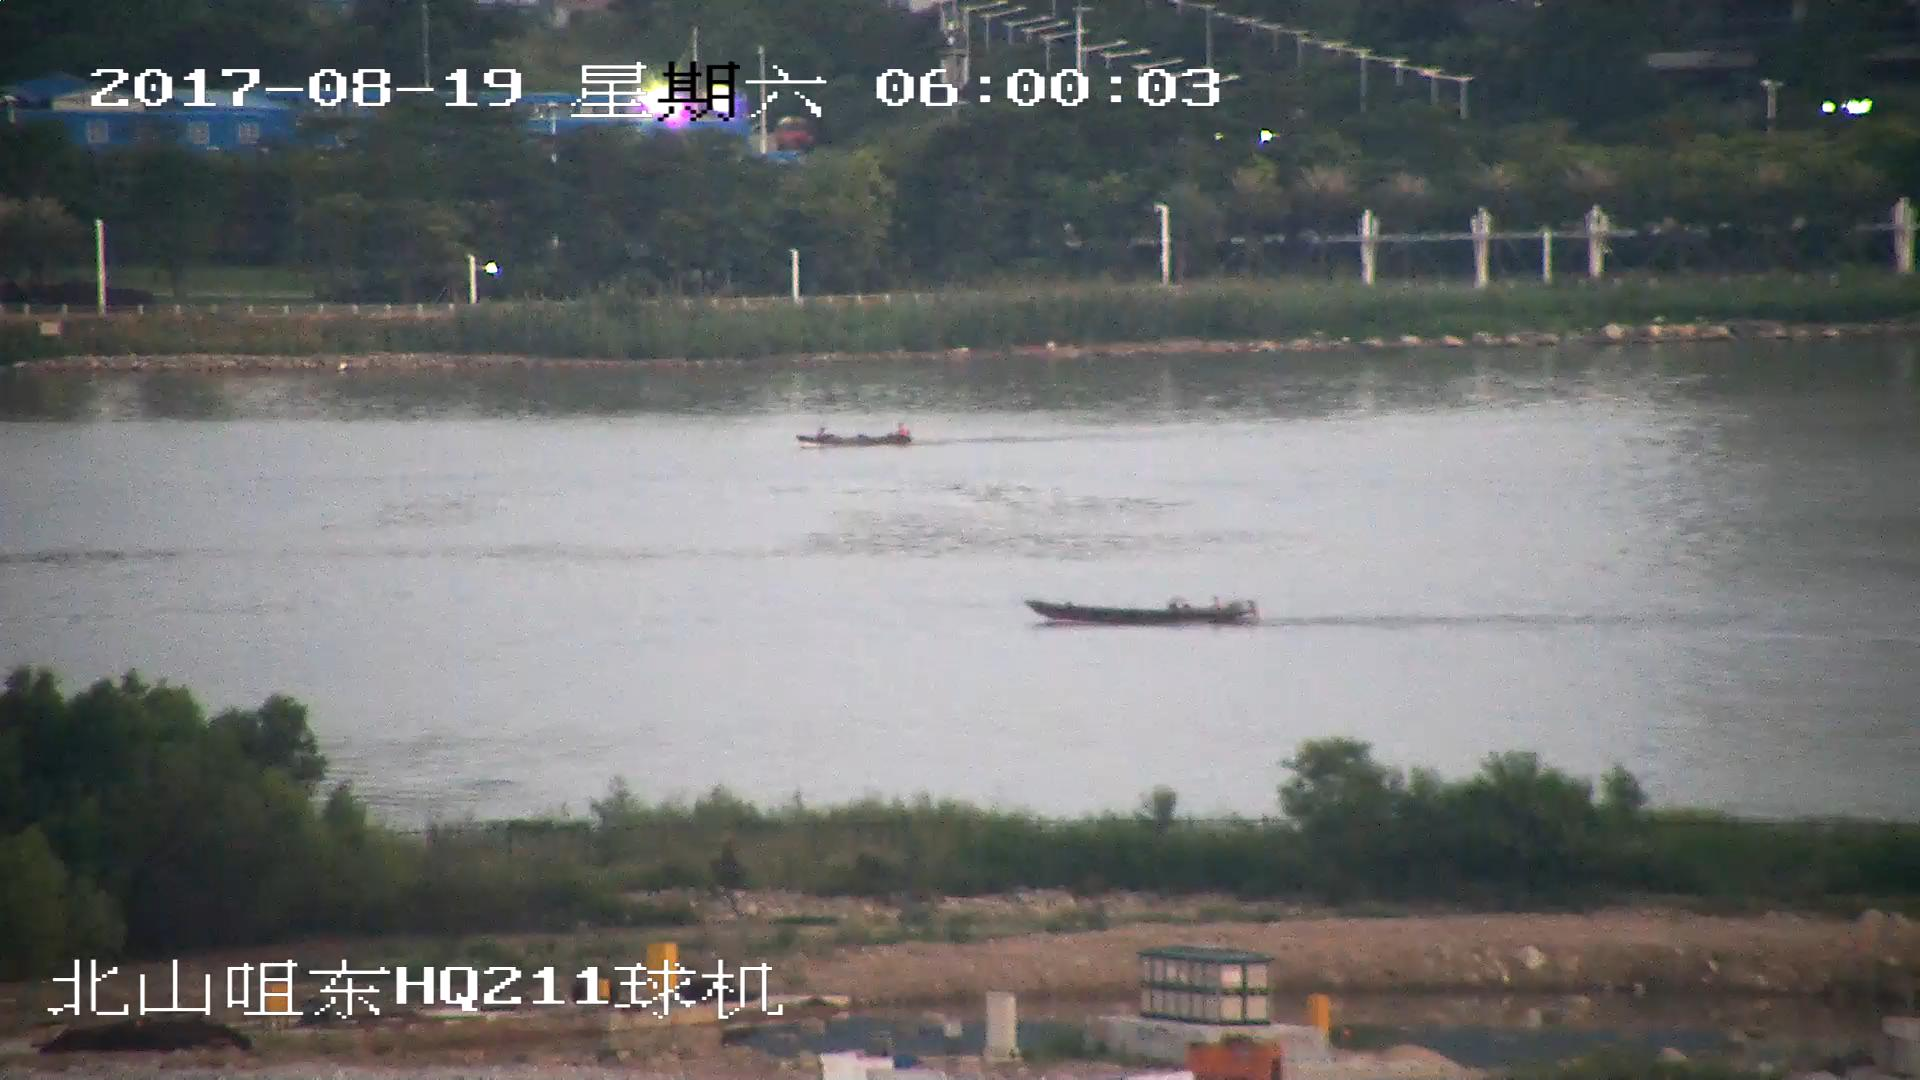fishing boat: (1026, 589, 1260, 629), (795, 420, 919, 451)
